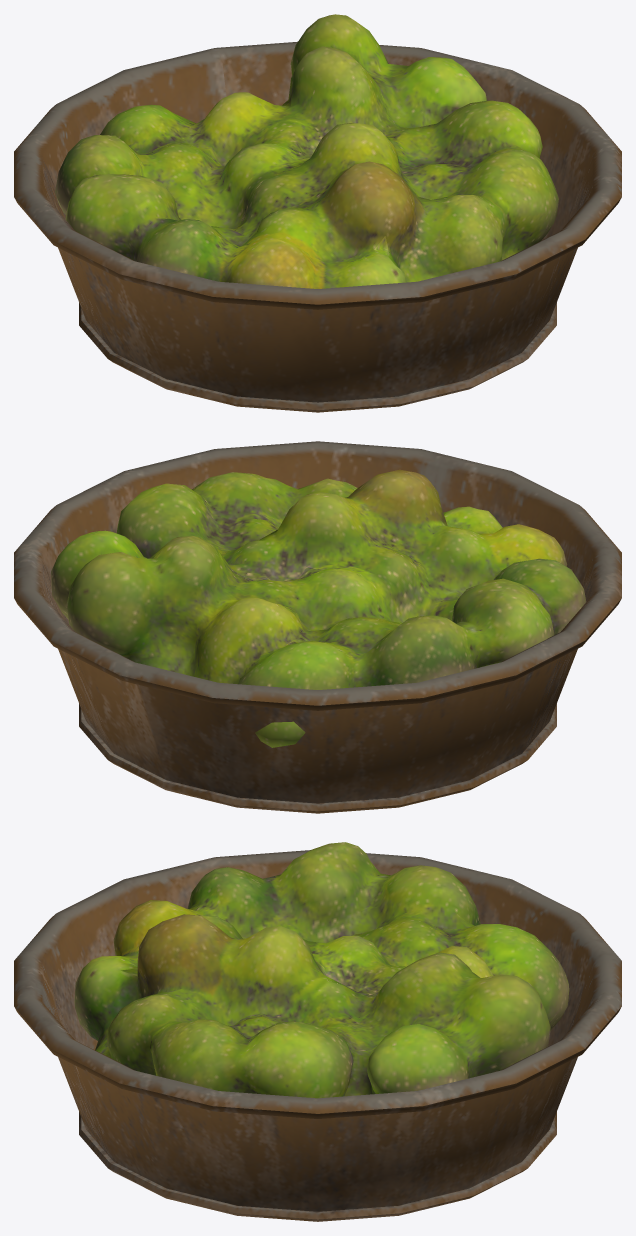
Rendered from G_B_Leamons.FBX.
3 renders of one model, top to bottom at view 1: azimuth 30°, elevation 25°; view 2: azimuth 150°, elevation 25°; view 3: azimuth 270°, elevation 25°, orthographic.
Visible parts, largest first — view 1: Lemons_basket001; view 2: Lemons_basket001; view 3: Lemons_basket001.
Boxes of the visible parts, left/top/right/bottom form: Lemons_basket001: left=14, top=14, right=621, bottom=412; Lemons_basket001: left=14, top=441, right=621, bottom=813; Lemons_basket001: left=14, top=842, right=621, bottom=1221.
Bounding box in the file's own units: 36.03 × 12.94 × 35.49.
1 material, 1 textured.
